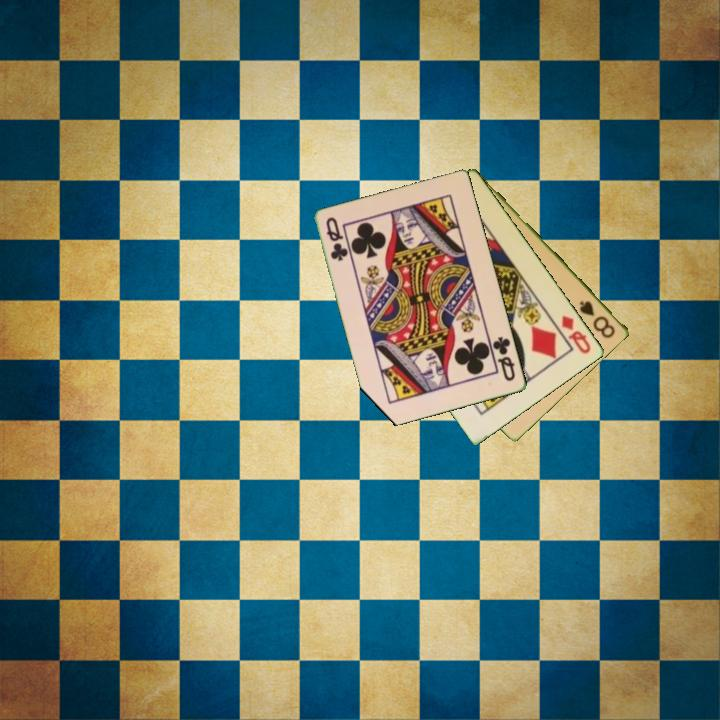8s: (576, 297, 619, 341)
Qc: (489, 333, 518, 384), (323, 214, 351, 264)
Qd: (558, 312, 594, 357)
